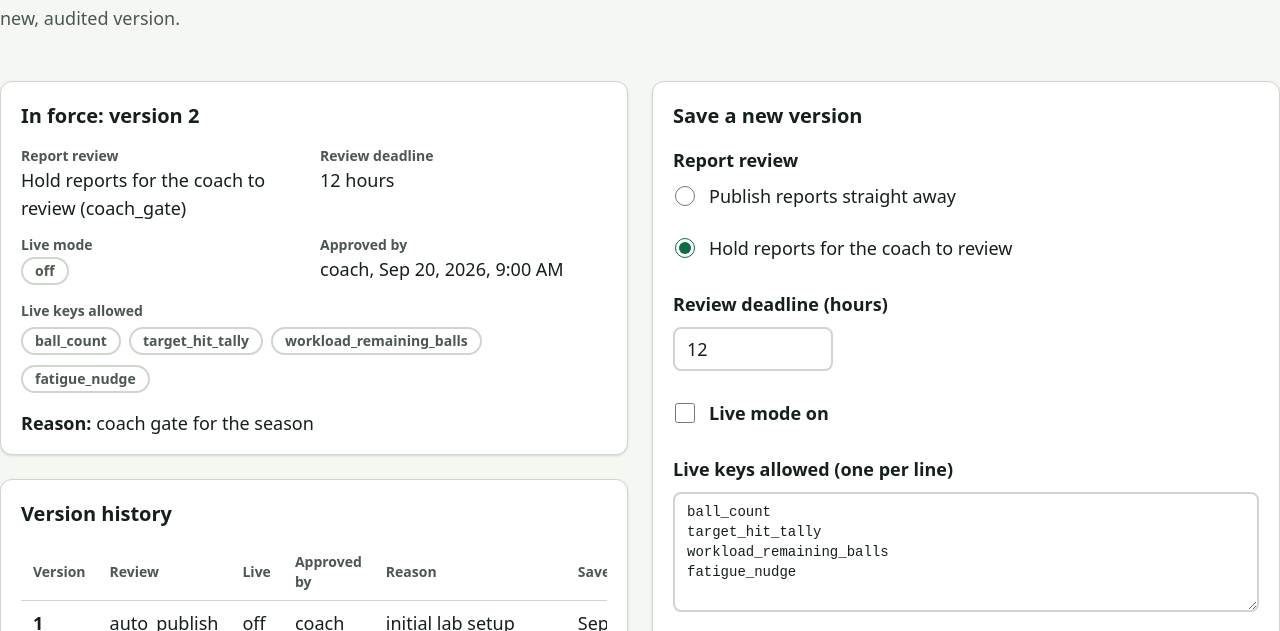
Test: new version › requires a reason and a positive deadline before posting
Replace the text in the number field labelled "Review deadline (hours)" with "0" at (753, 349), box [673,327,833,371]
(page scrolled)
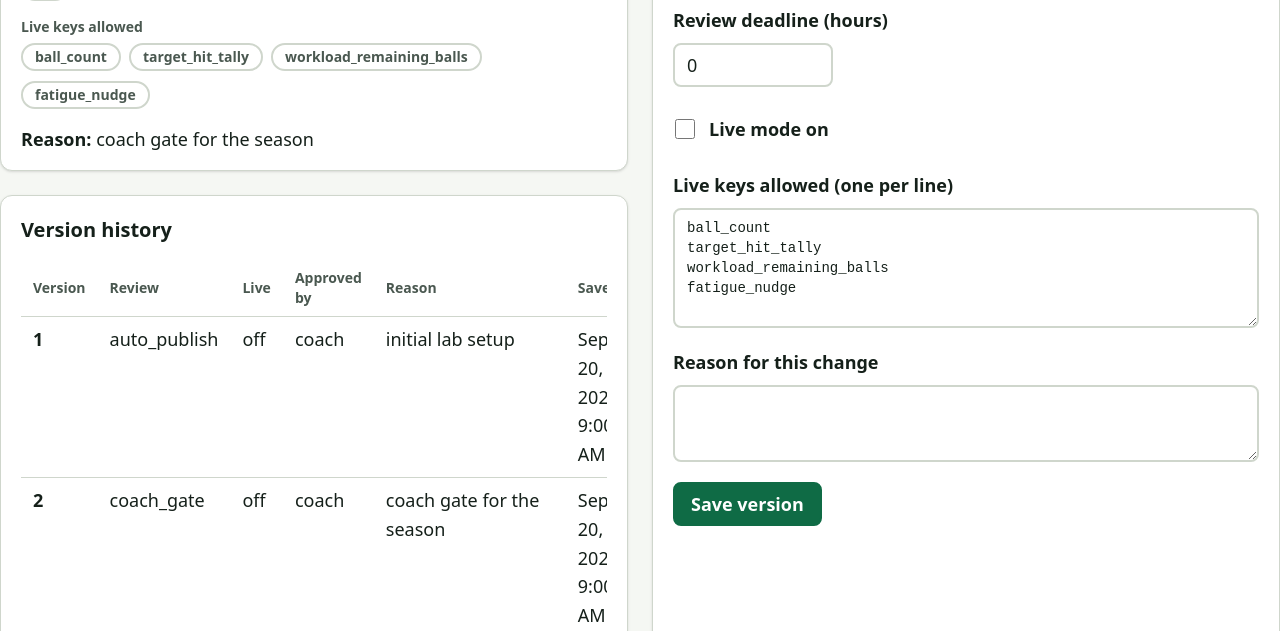
Click the button "Save version" at (747, 504), box [673,482,822,526]
(page scrolled)
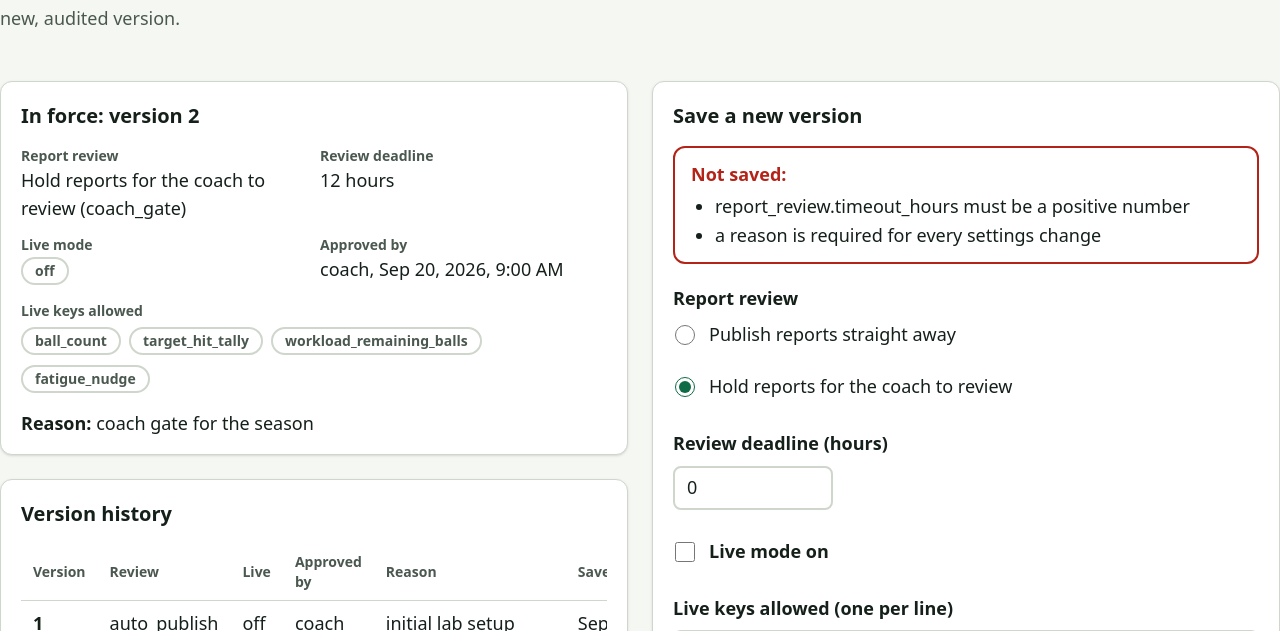
Now the message shows "report_review.timeout_hours must be a positive number", box [715,194,1190,218]
Now the message shows "a reason is required for every settings change", box [715,223,1101,247]
